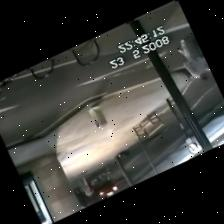person: (178, 38, 208, 79), (80, 176, 93, 196), (74, 187, 87, 206)
